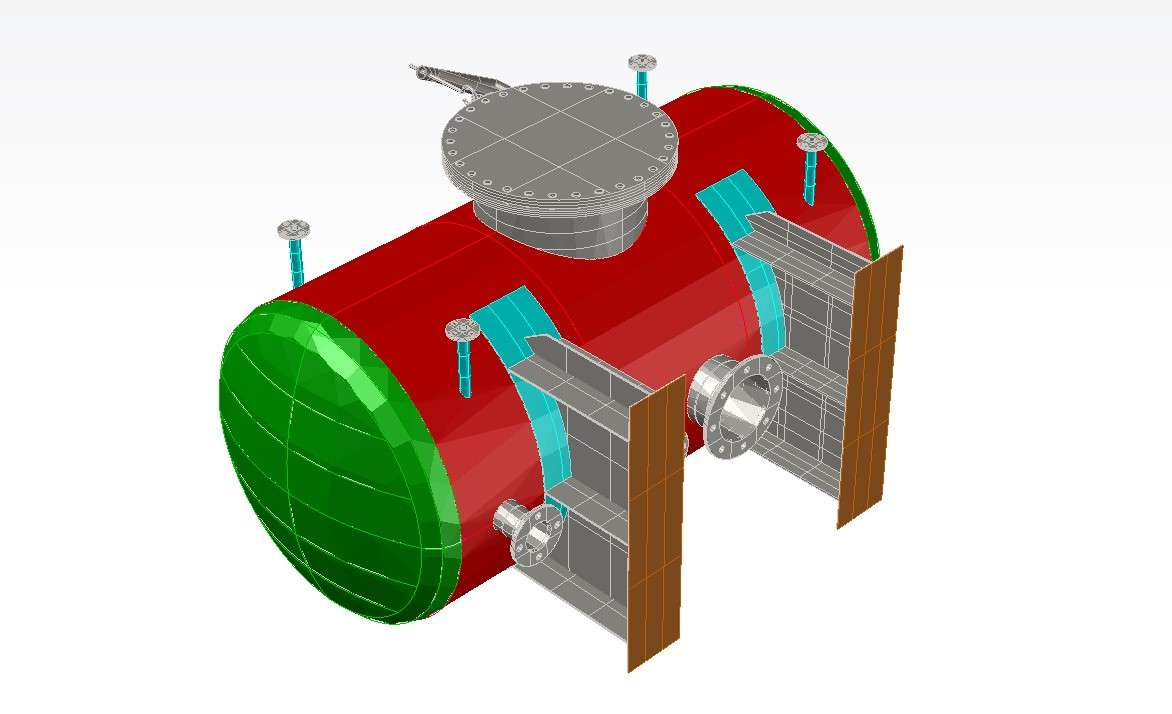nozzle: (689, 347, 797, 460), (486, 489, 576, 575)
